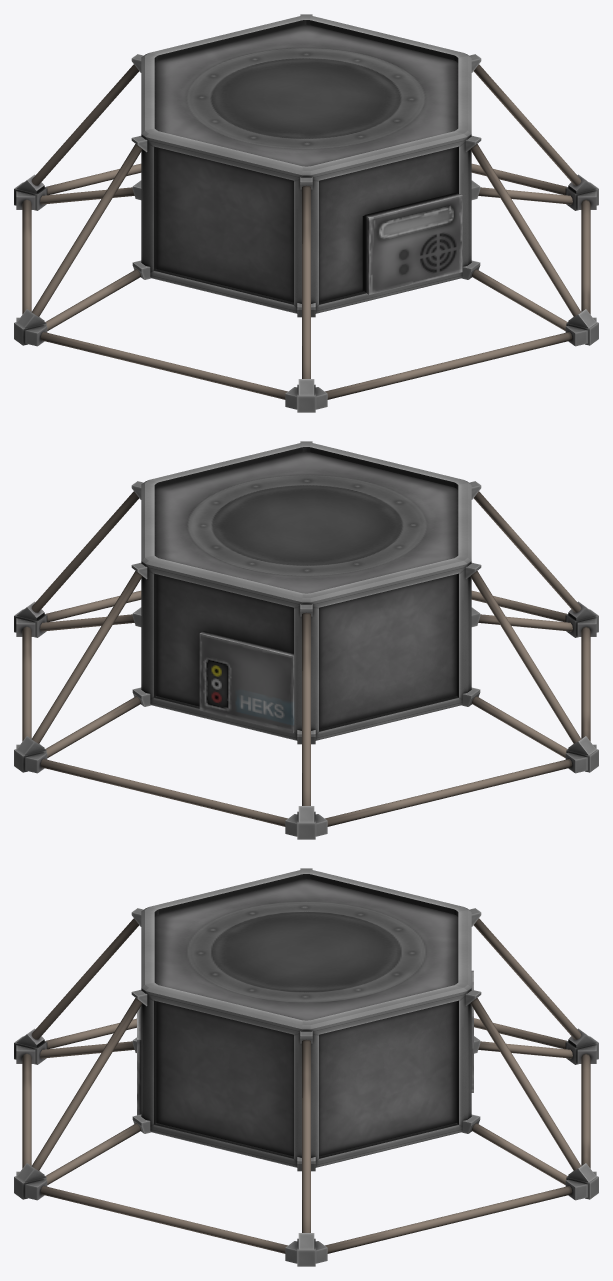
Rendered from RangerCore.dae.
3 renders of one model, top to bottom at view 1: azimuth 30°, elevation 25°; view 2: azimuth 150°, elevation 25°; view 3: azimuth 270°, elevation 25°, orthographic.
Parts seen in each view (by area): view 1: RangerCore, pCube128, pCylinder215_ncl1_3, pCylinder215_ncl1_4, pCylinder214_ncl1_3, pCylinder214_ncl1_5, pCylinder214_ncl1_4, pCylinder214, pCylinder214_ncl1_2, pCylinder215_ncl1_2, pCylinder215_ncl1_5, pCube16_ncl1_4 (+10 smaller); view 2: RangerCore, pCube127, pCylinder215, pCylinder215_ncl1_5, pCylinder214_ncl1_1, pCylinder214_ncl1_5, pCylinder214, pCylinder214_ncl1_2, pCylinder214_ncl1_4, pCylinder215_ncl1_1, pCylinder215_ncl1_4, pCube16 (+10 smaller); view 3: RangerCore, pCylinder215_ncl1_1, pCylinder215_ncl1_2, pCylinder214_ncl1_1, pCylinder214_ncl1_3, pCylinder214_ncl1_2, pCylinder214, pCylinder214_ncl1_4, pCylinder215, pCylinder215_ncl1_3, pCube16_ncl1_2, pCylinder213_ncl1_1 (+10 smaller).
Boxes of the visible parts, x1,y1,x2,y2 form: RangerCore: (141, 15, 471, 313); pCube128: (364, 192, 462, 294); pCylinder215_ncl1_3: (325, 332, 572, 399); pCylinder215_ncl1_4: (40, 332, 287, 399); pCylinder214_ncl1_3: (470, 144, 580, 316); pCylinder214_ncl1_5: (32, 144, 142, 316); pCylinder214_ncl1_4: (302, 185, 310, 378); pCylinder214: (31, 64, 139, 185); pCylinder214_ncl1_2: (473, 64, 581, 185); pCylinder215_ncl1_2: (581, 199, 590, 314); pCylinder215_ncl1_5: (22, 199, 31, 314); pCube16_ncl1_4: (285, 379, 327, 412); RangerCore: (141, 442, 471, 740); pCube127: (199, 631, 294, 732); pCylinder215: (40, 759, 287, 826); pCylinder215_ncl1_5: (325, 759, 572, 826); pCylinder214_ncl1_1: (32, 571, 142, 743); pCylinder214_ncl1_5: (470, 571, 580, 743); pCylinder214: (302, 612, 310, 805); pCylinder214_ncl1_2: (31, 491, 139, 612); pCylinder214_ncl1_4: (473, 491, 581, 612); pCylinder215_ncl1_1: (22, 626, 31, 741); pCylinder215_ncl1_4: (581, 626, 590, 741); pCube16: (285, 806, 327, 839); RangerCore: (141, 869, 471, 1167); pCylinder215_ncl1_1: (325, 1186, 572, 1253); pCylinder215_ncl1_2: (40, 1186, 287, 1253); pCylinder214_ncl1_1: (470, 998, 580, 1170); pCylinder214_ncl1_3: (32, 998, 142, 1170); pCylinder214_ncl1_2: (302, 1039, 310, 1232); pCylinder214: (473, 918, 581, 1039); pCylinder214_ncl1_4: (31, 918, 139, 1039); pCylinder215: (581, 1053, 590, 1168); pCylinder215_ncl1_3: (22, 1053, 31, 1168); pCube16_ncl1_2: (285, 1233, 327, 1266); pCylinder213_ncl1_1: (471, 1123, 567, 1184).
Size of the model in its own units: 1.03 by 0.3049 by 0.9039.
